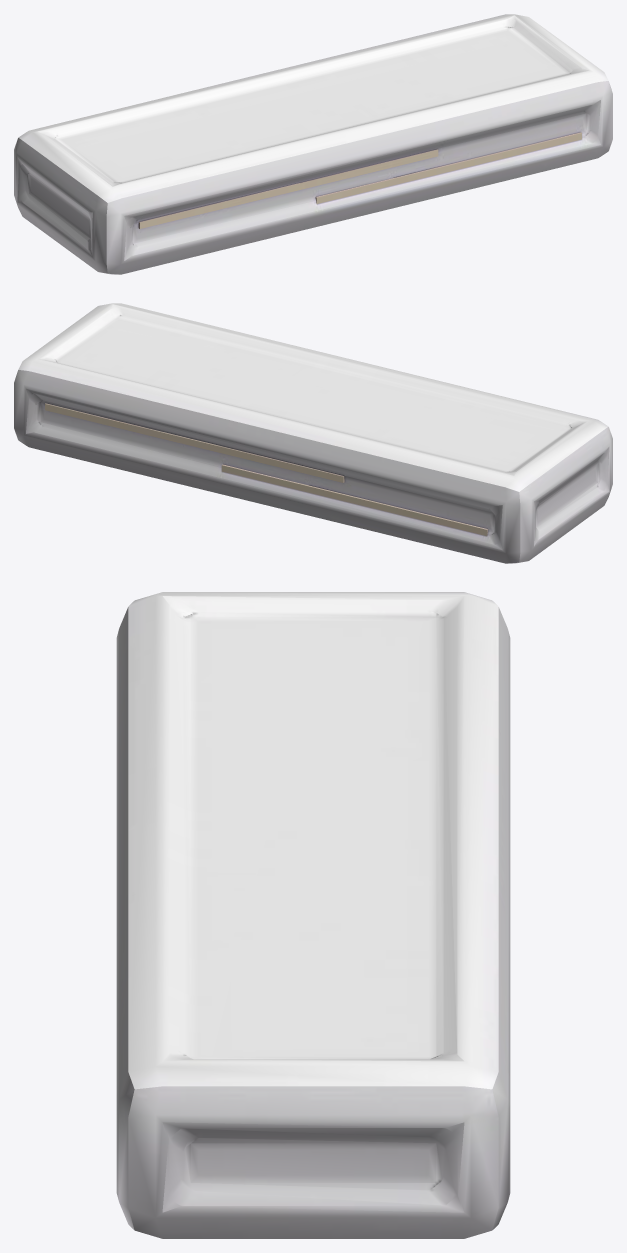
Rendered from kalas3.glb.
The picture shows the model from 3 angles, top to bottom: view 1: azimuth 30°, elevation 25°; view 2: azimuth 150°, elevation 25°; view 3: azimuth 270°, elevation 25°; orthographic projection. The views are drawn at different scales.
Visible parts, largest first — view 1: kalas3; view 2: kalas3; view 3: kalas3.
Part boxes in pixels (left/top/right/bottom): kalas3: left=14, top=14, right=612, bottom=274; kalas3: left=14, top=303, right=612, bottom=563; kalas3: left=116, top=592, right=510, bottom=1238.
Bounding box in the file's own units: 4.61 × 0.7402 × 1.52.
1 material, 1 textured.
